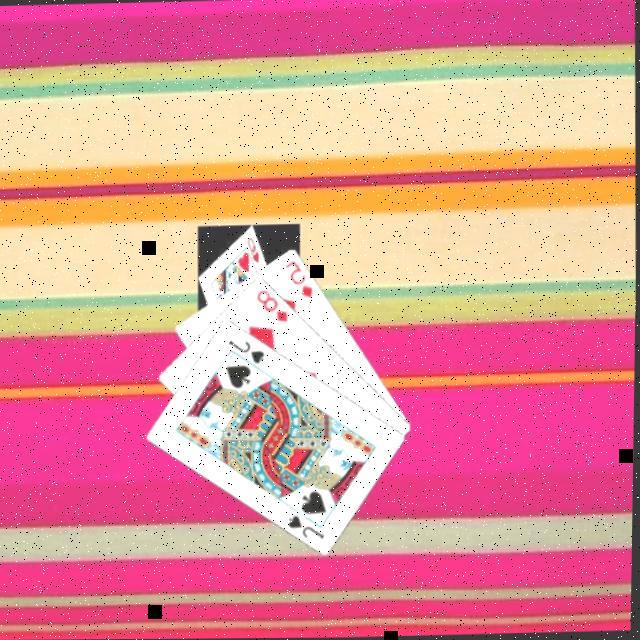5D: (279, 256, 315, 301)
8D: (250, 284, 289, 325)
JS: (283, 509, 326, 542), (223, 334, 266, 366)
